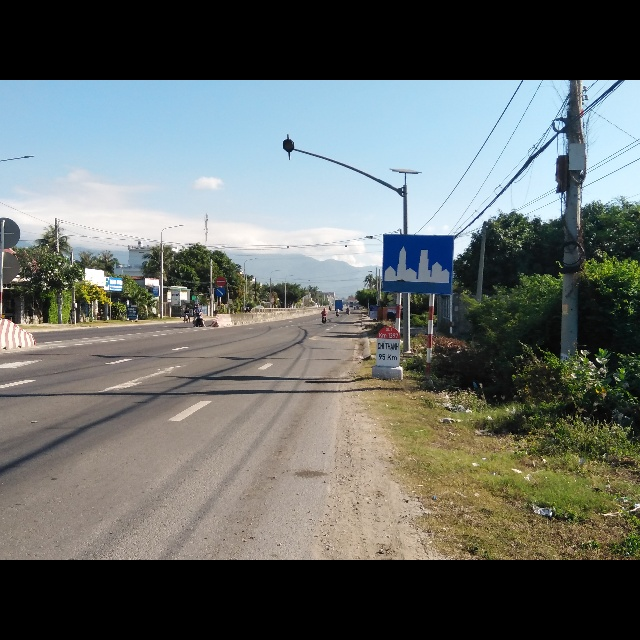Khu đông dân cư: (381, 232, 457, 295)
